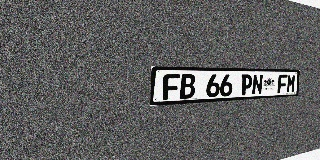plate: (150, 66, 300, 106)
